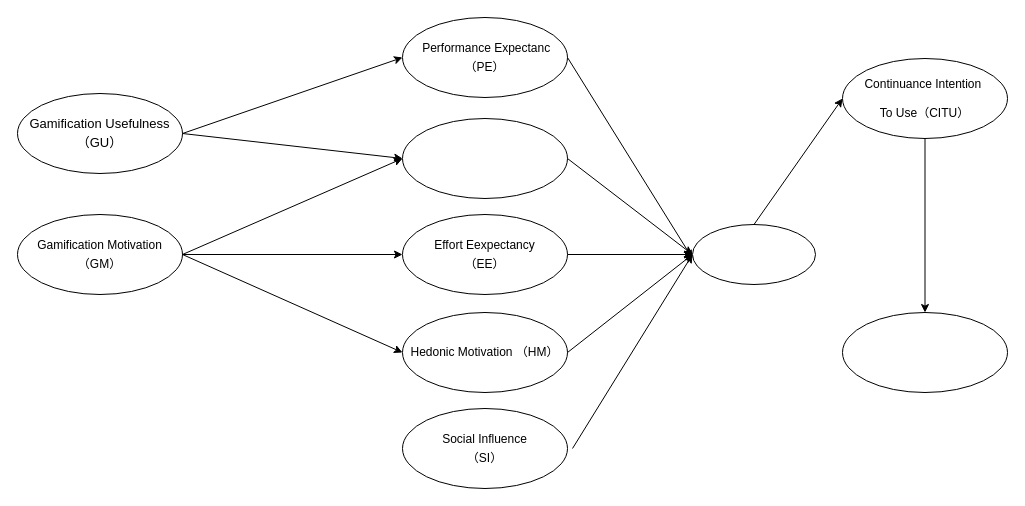
Some shapes in this 1025 by 506 pixel diagram are drawn without their labels. Each missing label, with the centre of its shape:
Actually Use（AU）: the point at 925,352
Attitude: the point at 754,254
Self Efficacy （SE）: the point at 485,158
